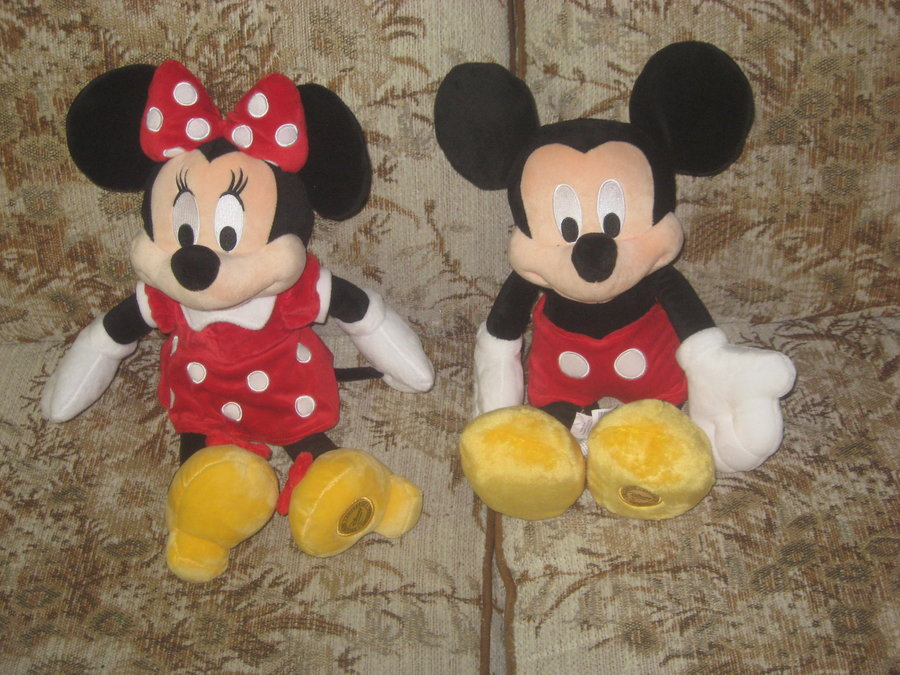Mickey: (430, 37, 754, 306)
